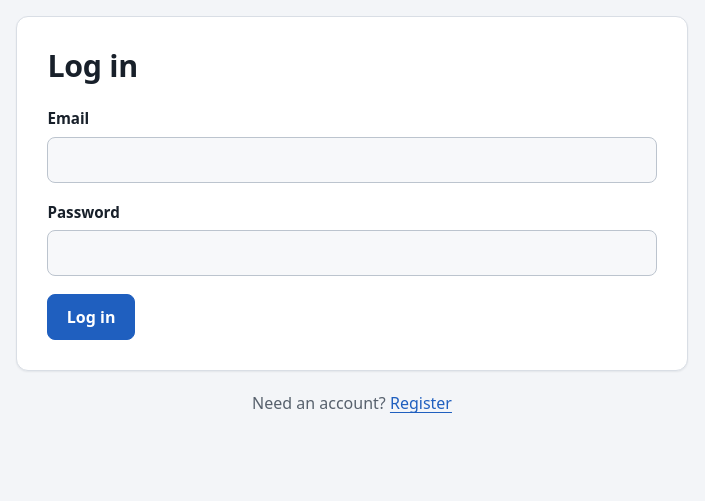
Test: session handling › ends the session when the task list reports 401
The width and height of the screenshot is (705, 501).
Type "demo.user@example.test" into the field labelled "Email" at (352, 160), box [47, 137, 657, 183]
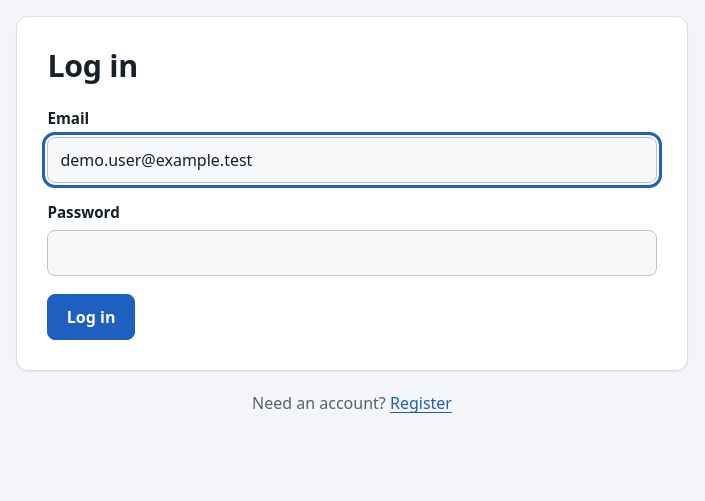
Type "DemoPassw0rd!" into the password field labelled "Password" at (352, 254), box [47, 230, 657, 276]
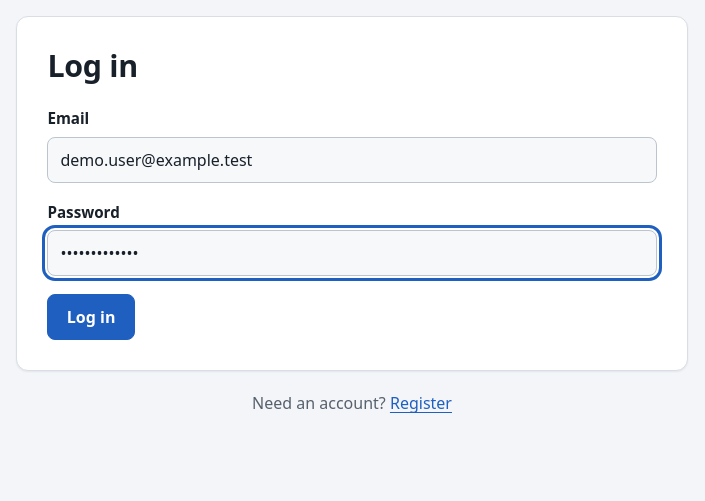
Click the button "Log in" at (91, 317), box [47, 294, 135, 340]
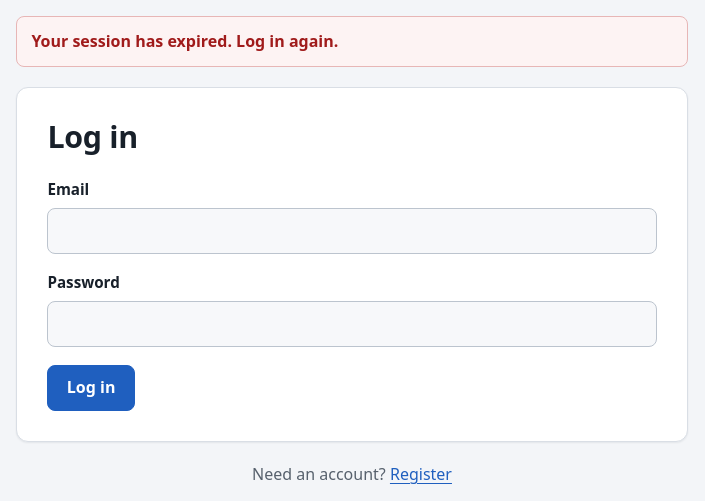
Expected: the heading "Log in" is shown, [47, 116, 138, 157]
Expected: the text "Your session has expired. Log in again." is shown, [16, 16, 688, 67]
